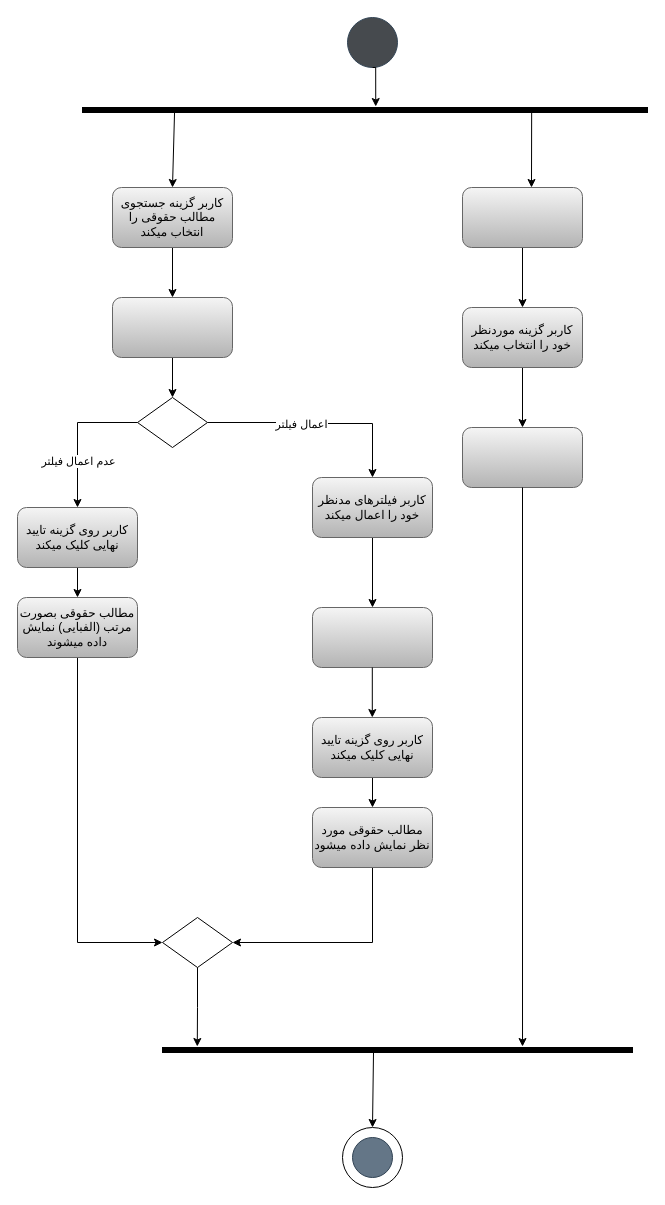
This 665x1205 diagram has some shape labels left out. The shapes that lost their labels are listed below. From the top down, each one's centre as x and y in pixels, then its label:
the point at 522,217: لیستی از مطالب حقوقی به کاربر نمایش داده میشود
the point at 172,327: گزینه های فیلترسازی برای کاربر ظاهر میشود
the point at 522,457: مطلب حقوقی مورد نظر بصورت کامل به کاربر نمایش داده میشود
the point at 372,637: کاربر روی گزینه تایید برای اعمال فیلتر ها کلیک میکند
